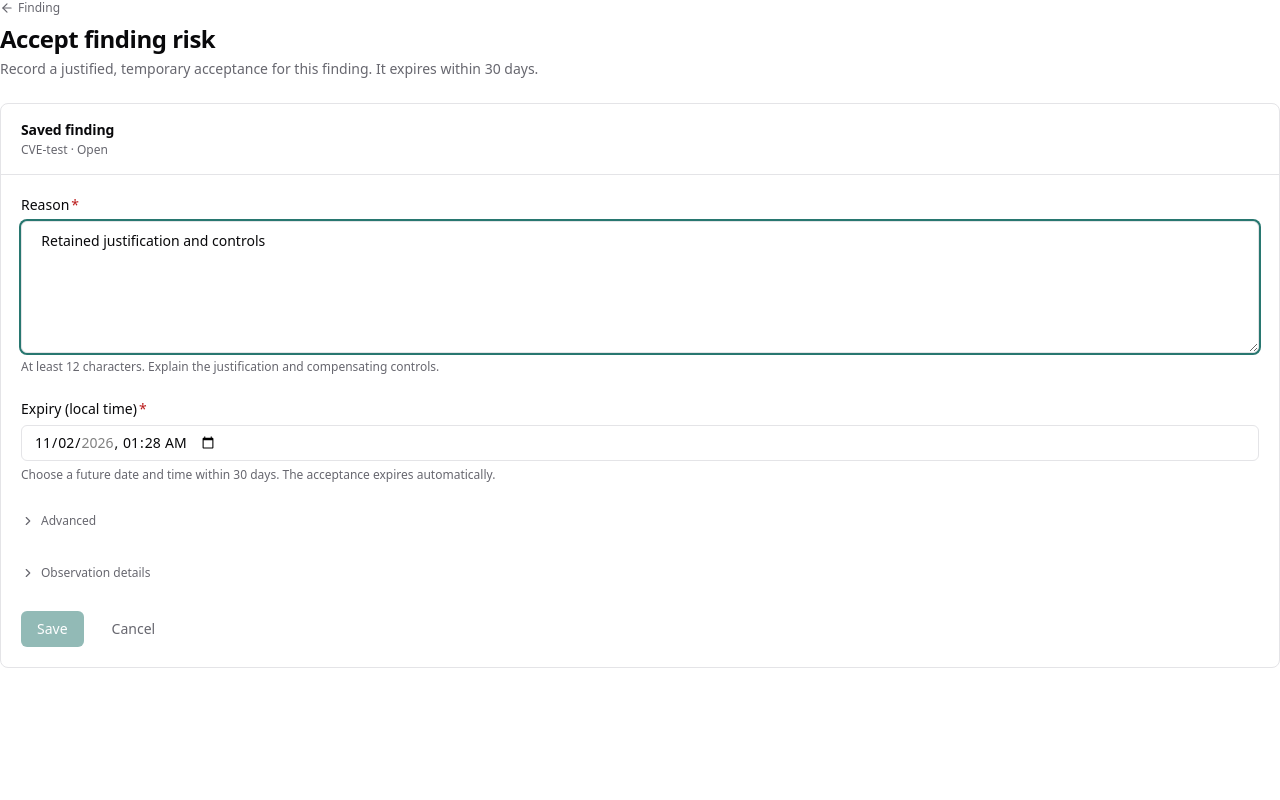
Test: preserves the accept draft and blocks writes during transient error cluster resolution
Expected: the form is shown, [21,195,1259,647]
Replace the text in the text box with id "finding-action-text" with "  Retained justification and controls  ": coordinates (640, 287) [21,221,1259,353]
(page scrolled)
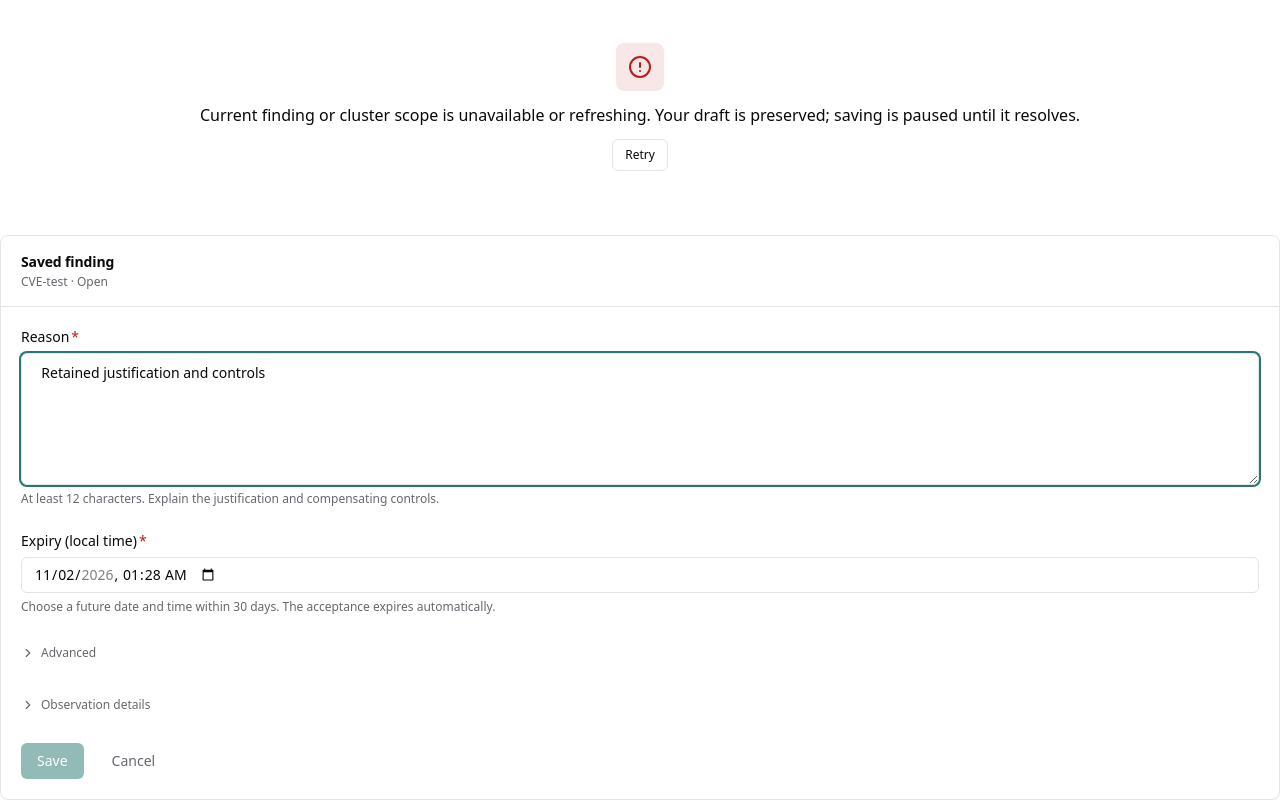
Expected: the button "Save" is disabled, [21,743,84,779]
Submit the form, box [21,327,1259,779]
(page scrolled)
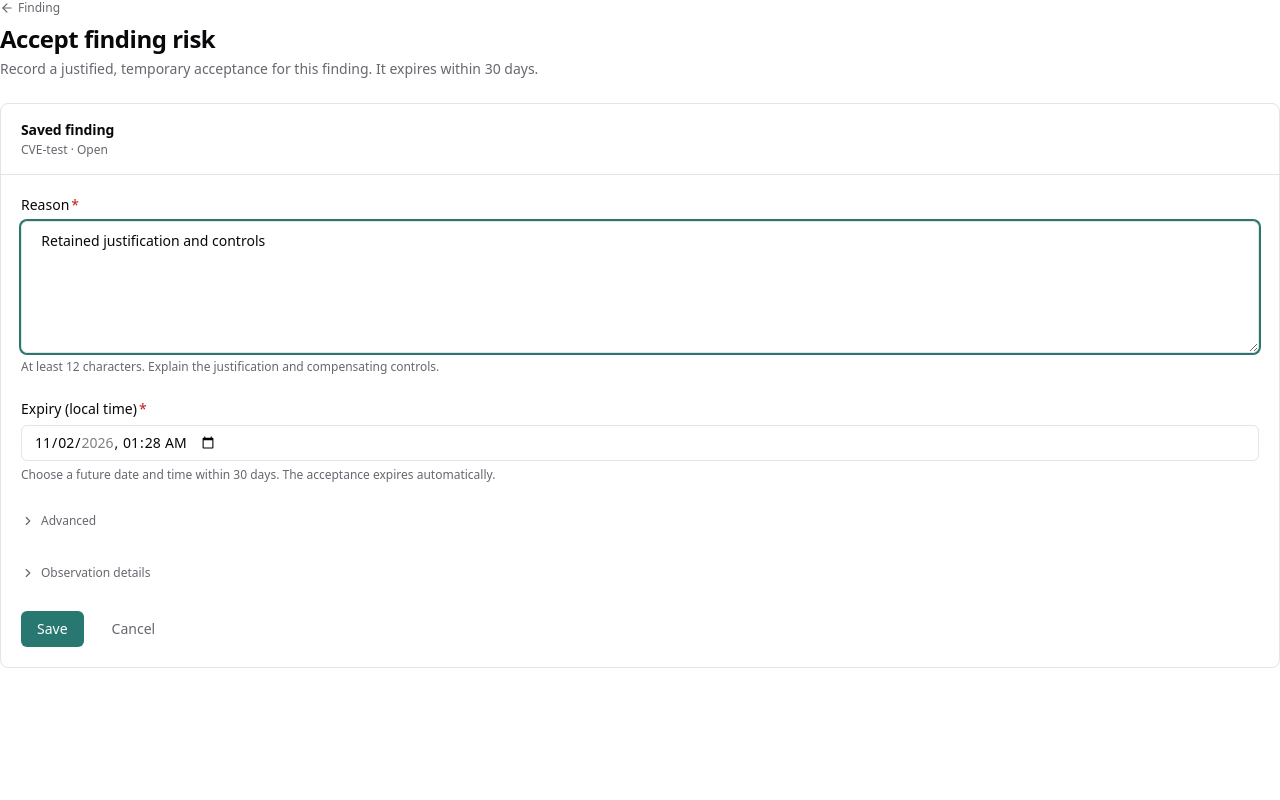
Now the button "Save" is enabled, box [21,611,84,647]
